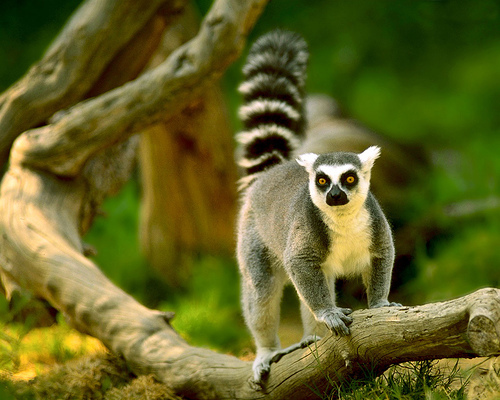cat: (235, 30, 403, 390)
